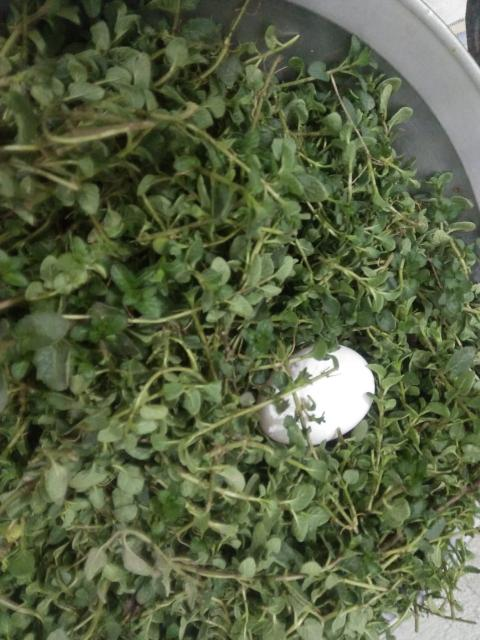Sano: (260, 343, 378, 443)
